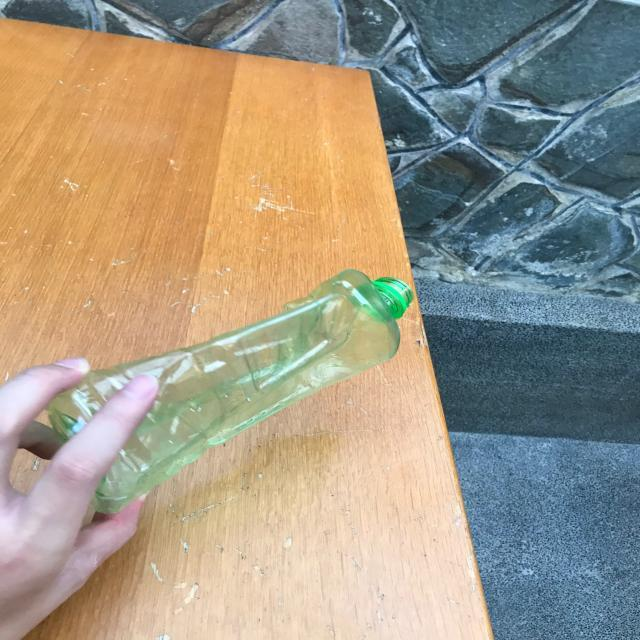plastic_bottle: (46, 269, 414, 515)
